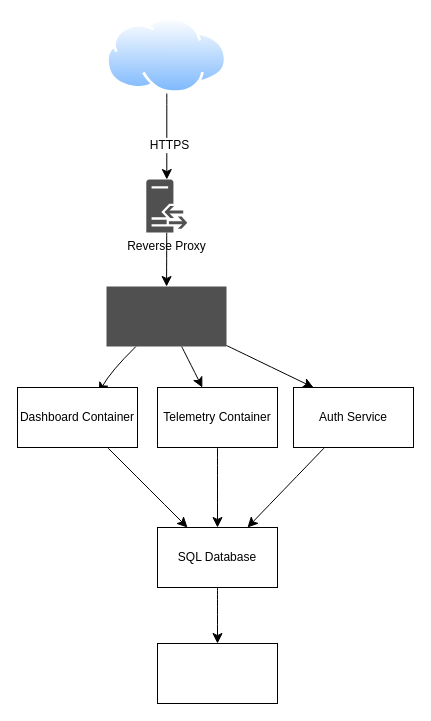
Image size: 431x721. Some labels were removed from this diagram. The centre of each missing label's shape, as x and y in pixels:
"Audit Log Storage" belongs at point (217, 673).
"Docker Network" belongs at point (166, 316).
"Internet" belongs at point (166, 55).
